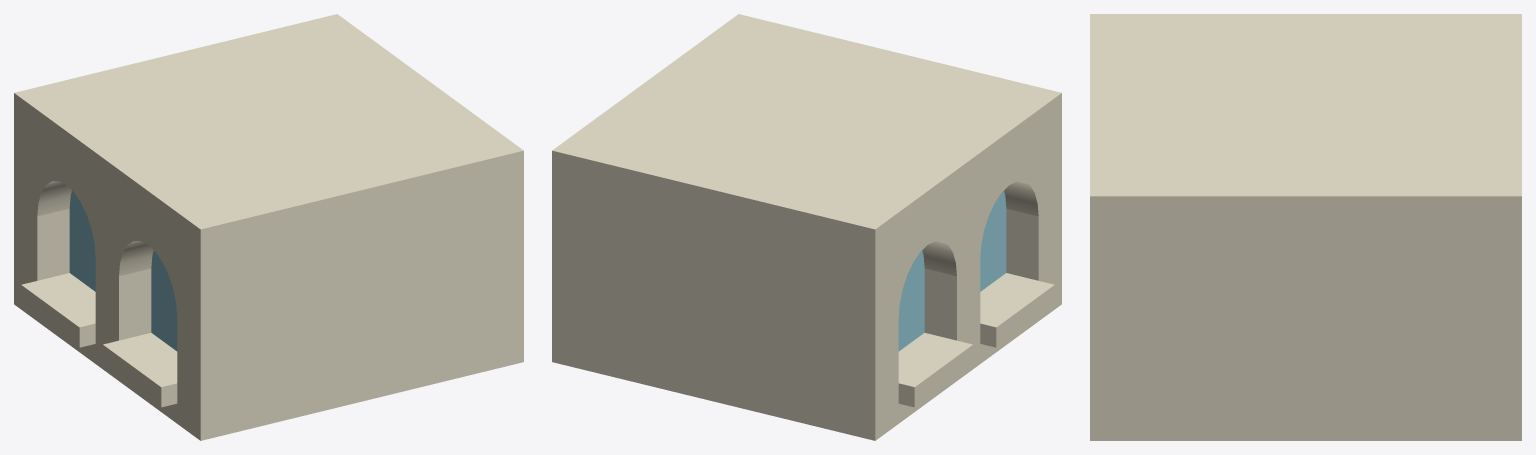
File: floor3.obj
The picture shows the model from 3 angles, left to right: view 1: azimuth 30°, elevation 25°; view 2: azimuth 150°, elevation 25°; view 3: azimuth 270°, elevation 25°; orthographic projection. The views are drawn at different scales.
Visible parts, largest first — view 1: floor3; view 2: floor3; view 3: floor3.
Boxes of the visible parts, box(x1,y1,x2,y2) form: floor3: box(14, 14, 523, 440); floor3: box(552, 14, 1061, 440); floor3: box(1090, 14, 1521, 440).
Size of the model in its own units: 1.05 by 0.625 by 1.
